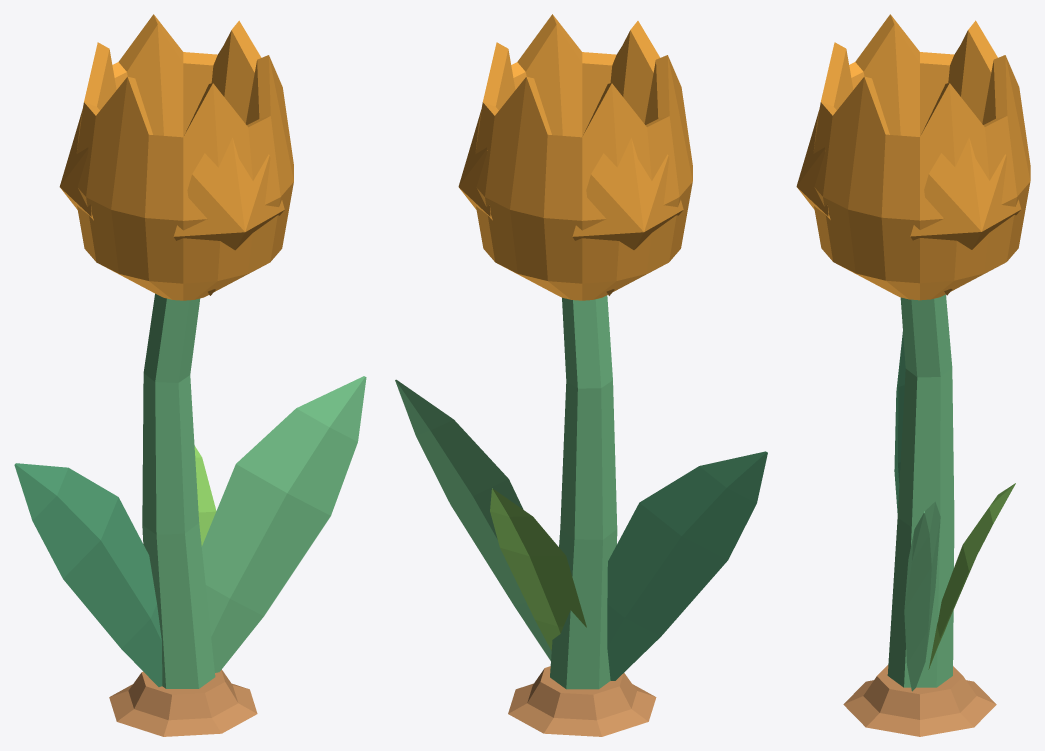
File: 08-orange-tulip.glb
3 renders of one model, left to right at view 1: azimuth 30°, elevation 25°; view 2: azimuth 150°, elevation 25°; view 3: azimuth 270°, elevation 25°, orthographic.
Visible parts, largest first — view 1: 08-orange-tulip_Body; view 2: 08-orange-tulip_Body; view 3: 08-orange-tulip_Body.
Boxes of the visible parts, bbox=[...] form: 08-orange-tulip_Body: bbox=[14, 14, 366, 736]; 08-orange-tulip_Body: bbox=[395, 14, 767, 736]; 08-orange-tulip_Body: bbox=[796, 14, 1030, 736].
Size of the model in its own units: 0.3314 by 0.574 by 0.1856.
Materials: 1 (1 with a texture image).
